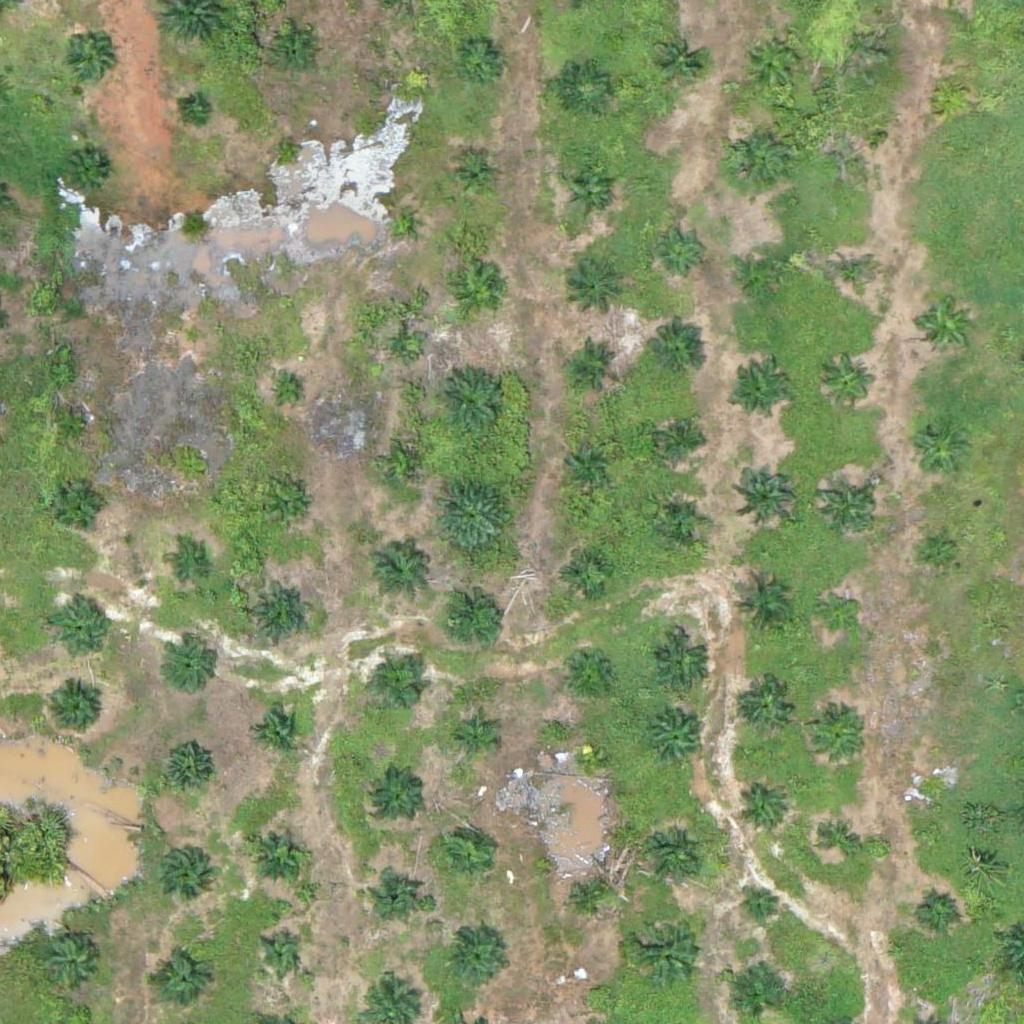Kelapa_Sawit: (432, 363, 507, 439), (436, 581, 511, 657), (631, 907, 706, 983), (436, 477, 511, 553), (365, 536, 428, 599), (907, 418, 970, 481), (650, 632, 713, 695), (250, 582, 313, 645), (566, 256, 629, 319), (724, 127, 787, 190), (914, 295, 977, 358), (645, 325, 708, 388), (729, 363, 791, 426), (642, 824, 704, 887), (730, 576, 792, 639), (817, 477, 879, 540), (733, 460, 795, 523), (441, 926, 503, 989), (44, 679, 106, 742), (248, 821, 310, 884), (48, 597, 110, 660), (742, 30, 804, 93), (647, 711, 709, 773), (823, 356, 873, 407), (153, 955, 203, 1006), (164, 641, 214, 692), (47, 940, 97, 991), (161, 742, 211, 793), (252, 706, 302, 757), (54, 478, 104, 529), (560, 64, 610, 115), (455, 35, 505, 86), (653, 35, 703, 86), (827, 250, 877, 301), (739, 248, 789, 299), (657, 225, 707, 276), (565, 167, 615, 218), (373, 867, 423, 917), (376, 661, 426, 711), (372, 771, 422, 821), (562, 644, 612, 694), (561, 548, 611, 598), (743, 679, 793, 729), (813, 711, 863, 761), (439, 827, 489, 877), (158, 845, 208, 895), (454, 269, 504, 319), (566, 870, 616, 920), (273, 29, 323, 79), (655, 414, 705, 464), (657, 498, 707, 548), (563, 434, 613, 484), (568, 339, 618, 389), (450, 152, 500, 202), (738, 783, 788, 833), (62, 35, 112, 85), (65, 149, 115, 199), (454, 717, 492, 755), (167, 547, 205, 585), (741, 885, 779, 923), (931, 73, 969, 111), (818, 596, 856, 634), (916, 779, 954, 817), (822, 821, 860, 859), (272, 490, 309, 528), (921, 893, 959, 930), (261, 934, 298, 972), (838, 125, 875, 163), (56, 408, 93, 446), (921, 533, 958, 570), (182, 98, 207, 124), (394, 454, 419, 480), (387, 209, 412, 234), (392, 337, 417, 362), (275, 380, 300, 405), (275, 136, 300, 161), (575, 745, 600, 770), (582, 980, 607, 1005), (181, 325, 206, 350)
